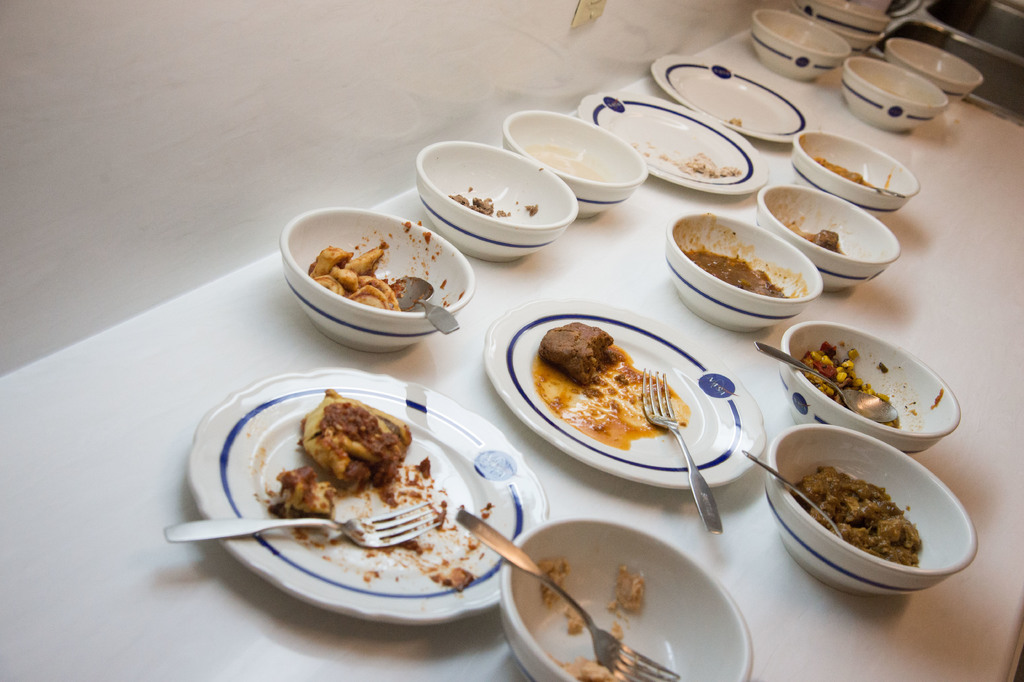plate: (477, 301, 754, 498)
